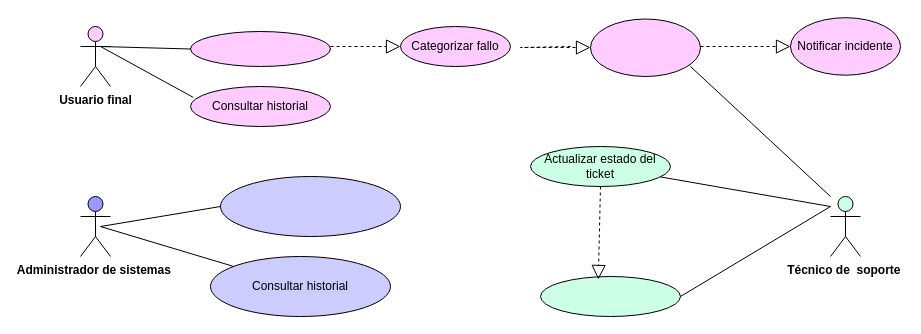
Some shapes in this 921 by 334 pixel diagram are drawn without their labels. Here are the shapes that lost their labels. From the top down, the centre of each, then its label:
At (260,48): "Crear ticket".
At (645,47): "Asignar técnico".
At (310,206): "Gestionar usuarios y roles".
At (610,296): "Resolver incidencia".
